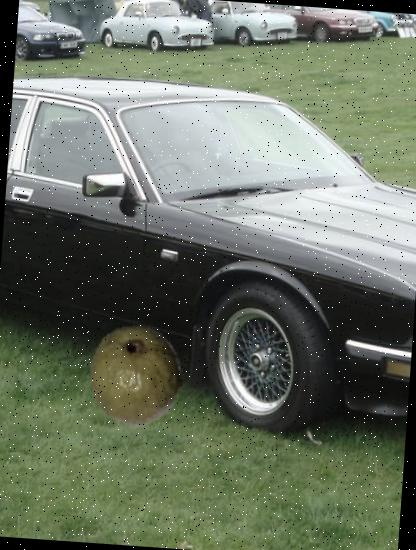Guava: (80, 320, 192, 432)
